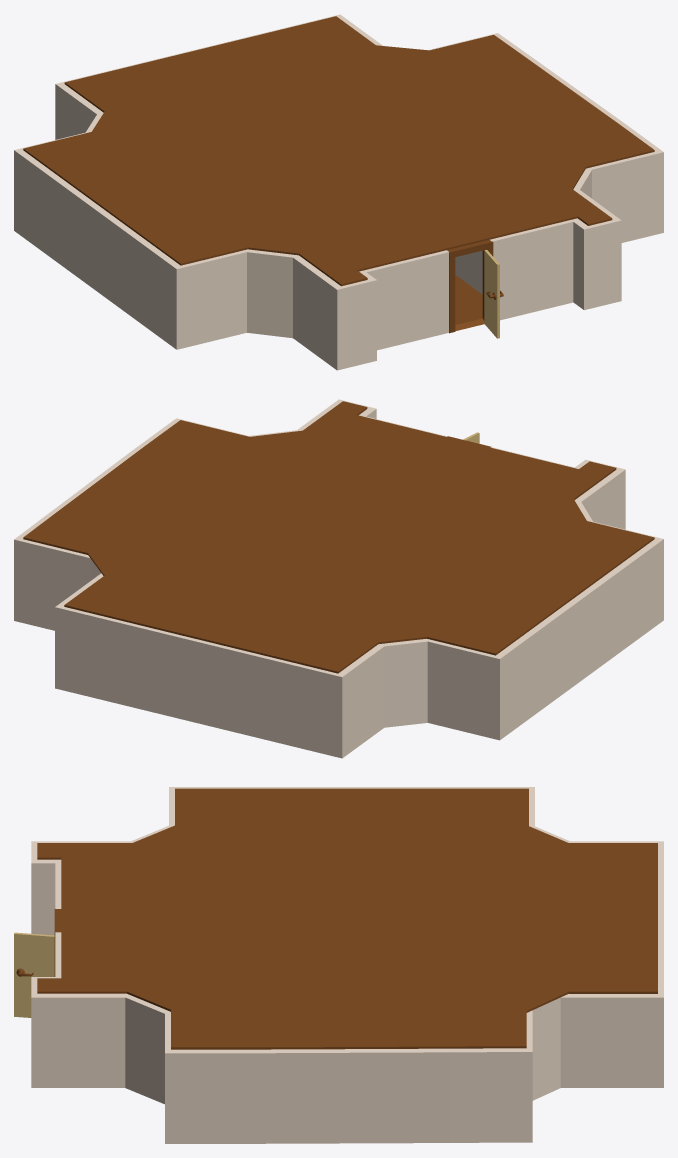
The model's file is new_library.glb.
3 views of the same model, one above another, from view 1: azimuth 30°, elevation 25°; view 2: azimuth 150°, elevation 25°; view 3: azimuth 270°, elevation 25° (orthographic). The views are drawn at different scales.
Parts seen in each view (by area): view 1: Plane, Door, DoorFrame; view 2: Plane; view 3: Plane, Door.
Part boxes in pixels (bbox=[...]): Plane: bbox=[14, 14, 663, 370]; Door: bbox=[484, 250, 499, 338]; DoorFrame: bbox=[447, 240, 493, 333]; Plane: bbox=[14, 399, 663, 758]; Plane: bbox=[31, 787, 663, 1143]; Door: bbox=[14, 932, 54, 1017].
Size of the model in its own units: 6.61 by 1.07 by 6.82.
